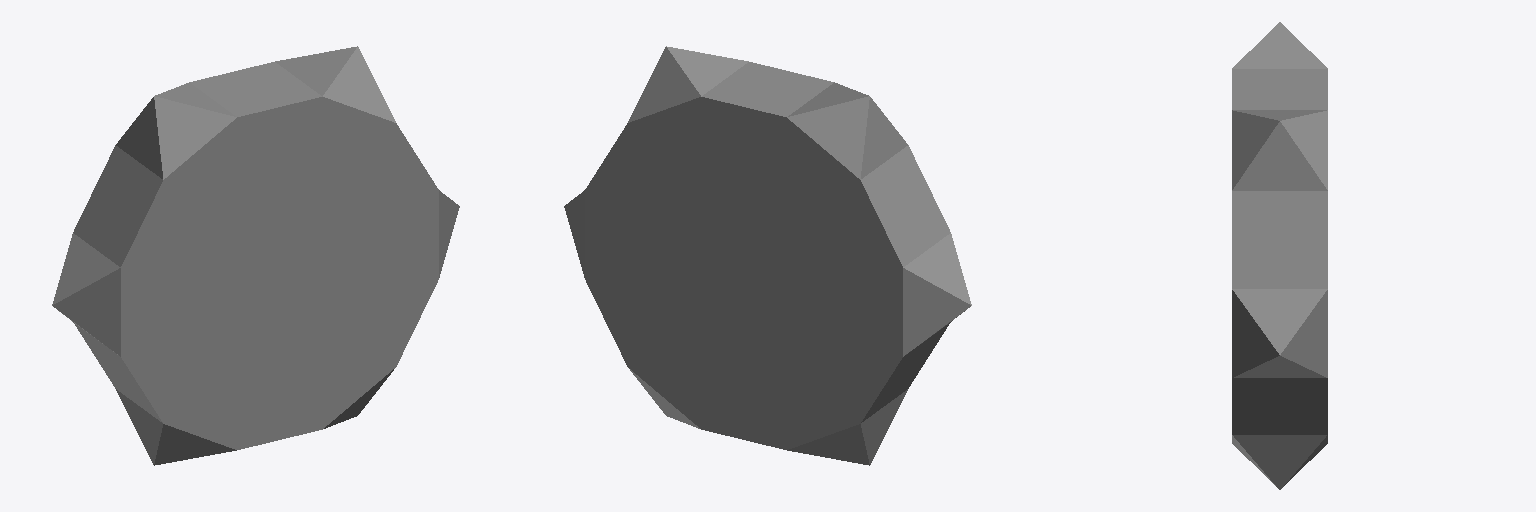
File: wheelspin.obj
3 views of the same model, side by side, from view 1: azimuth 30°, elevation 25°; view 2: azimuth 150°, elevation 25°; view 3: azimuth 270°, elevation 25° (orthographic).
Parts seen in each view (by area): view 1: Box01; view 2: Box01; view 3: Box01.
Part boxes in pixels (left/top/right/bottom): Box01: left=52, top=46, right=459, bottom=465; Box01: left=564, top=46, right=971, bottom=465; Box01: left=1232, top=22, right=1327, bottom=489.
Size of the model in its own units: 6.59 by 5.71 by 1.34.